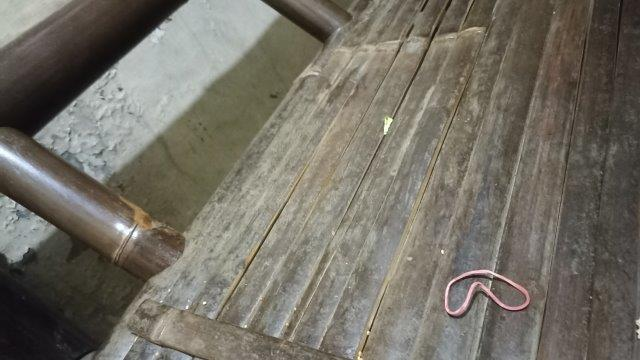karet: (445, 270, 529, 316)
